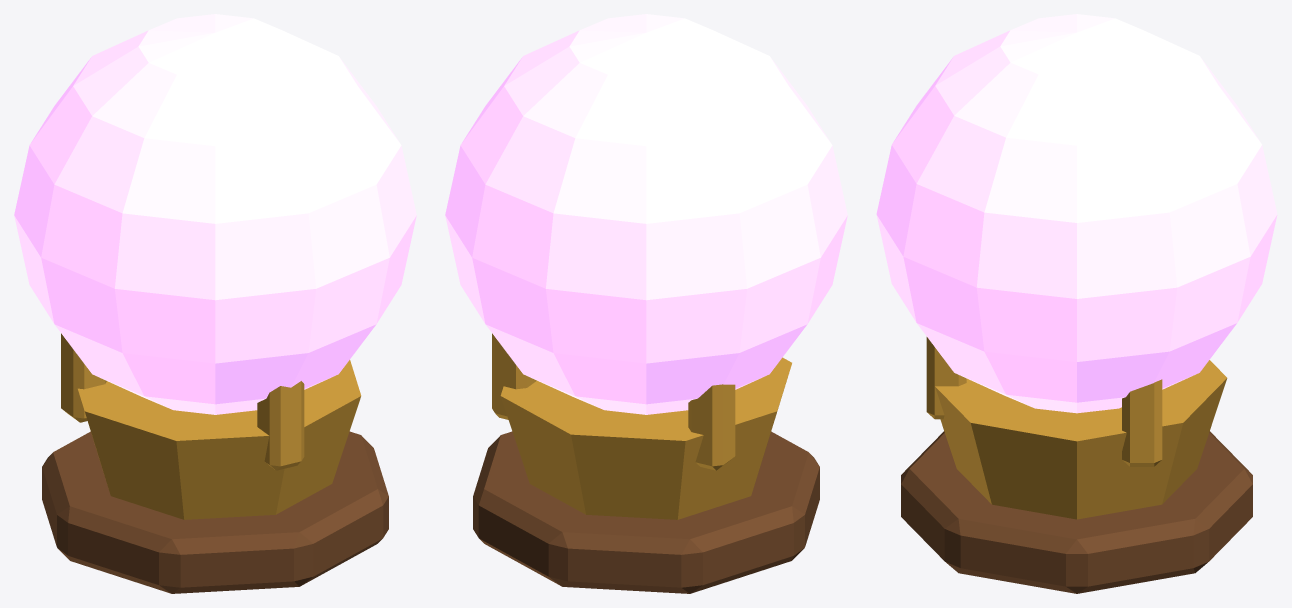
Rendered from crystal_ball_lamp.glb.
3 views of the same model, side by side, from view 1: azimuth 30°, elevation 25°; view 2: azimuth 150°, elevation 25°; view 3: azimuth 270°, elevation 25° (orthographic).
Visible parts, largest first — view 1: crystal_ball_lamp; view 2: crystal_ball_lamp; view 3: crystal_ball_lamp.
Part boxes in pixels (bbox=[...]): crystal_ball_lamp: bbox=[14, 14, 416, 593]; crystal_ball_lamp: bbox=[445, 14, 847, 593]; crystal_ball_lamp: bbox=[876, 14, 1277, 593].
Size of the model in its own units: 0.2 by 0.27 by 0.2.
